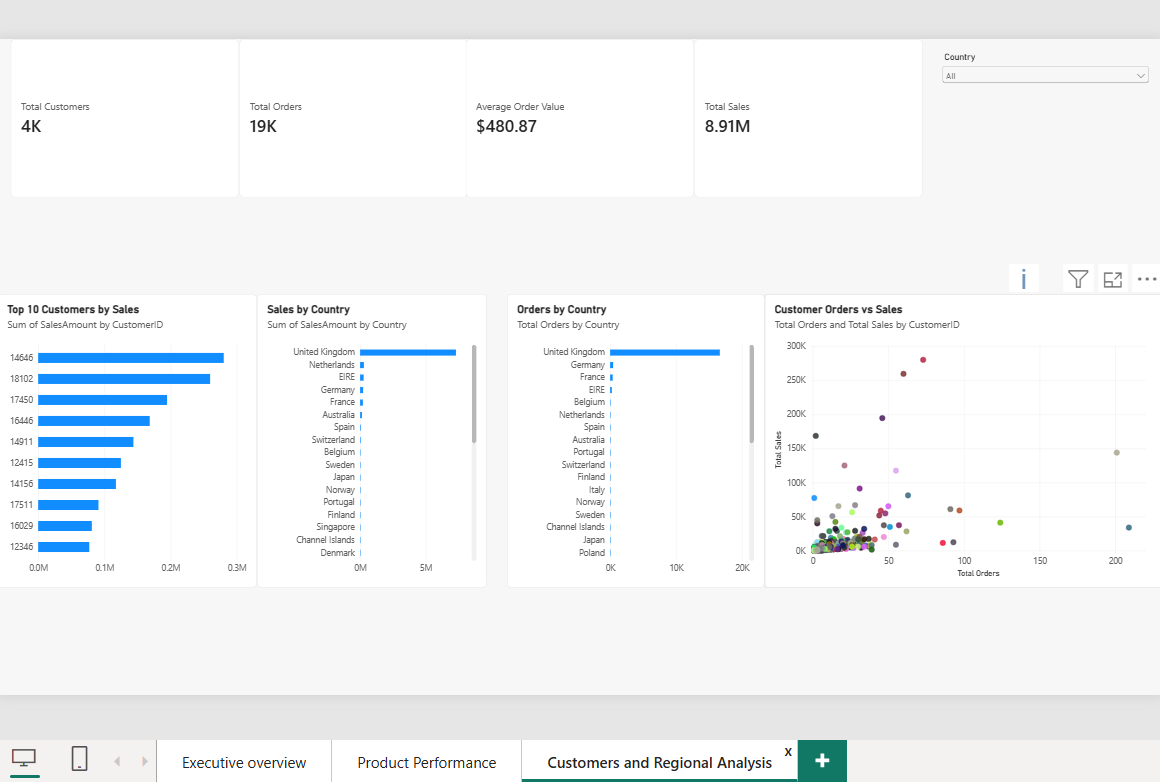

This screenshot's page, from the dashboard's own definition file:
{"tool":"powerbi","page":{"name":"Customers and Regional Analysis","canvas":[1920,1080],"ordinal":2},"visuals":[{"type":"clusteredBarChart","title":"Top 10 Customers by Sales","fields":{"Category":["Online Retail.CustomerID"],"Y":["Sum(Online Retail.SalesAmount)"]},"box":[0,419.9,428.1,483.7],"z":0},{"type":"clusteredBarChart","title":"Sales by Country","fields":{"Category":["Online Retail.Country"],"Y":["Sum(Online Retail.SalesAmount)"]},"box":[428.1,419.9,378.7,483.7],"z":1000},{"type":"clusteredBarChart","title":"Orders by Country","fields":{"Category":["Online Retail.Country"],"Y":["Online Retail.Total Orders"]},"box":[839.8,419.9,424,483.7],"z":2000},{"type":"scatterChart","title":"Customer Orders vs Sales","fields":{"Series":["Online Retail.CustomerID"],"X":["Online Retail.Total Orders"],"Y":["Online Retail.Total Sales"]},"box":[1263.8,419.9,656.6,483.7],"z":3000},{"type":"cardVisual","fields":{"Data":["Online Retail.Total Customers"]},"box":[22.6,0,376.7,261.4],"z":4000},{"type":"cardVisual","fields":{"Data":["Online Retail.Total Orders"]},"box":[399.3,0,376.7,261.4],"z":5000},{"type":"cardVisual","fields":{"Data":["Online Retail.Average Order Value"]},"box":[771.9,0,376.7,261.4],"z":6000},{"type":"cardVisual","fields":{"Data":["Online Retail.Total Sales"]},"box":[1148.5,0,376.7,261.4],"z":7000},{"type":"slicer","fields":{"Values":["Online Retail.Country"]},"box":[1552,20.6,349.9,111.1],"z":7001}]}

Visuals, with their boxes on the page's 1920x1080 design canvas (x1, y1, x2, y2). These are canvas units, not pixel positions in the 1160x782 screenshot, which may show the page scaled, cropped or inside an application window:
"Top 10 Customers by Sales" clusteredBarChart: <bbox>0, 420, 428, 904</bbox>
"Sales by Country" clusteredBarChart: <bbox>428, 420, 807, 904</bbox>
"Orders by Country" clusteredBarChart: <bbox>840, 420, 1264, 904</bbox>
"Customer Orders vs Sales" scatterChart: <bbox>1264, 420, 1920, 904</bbox>
cardVisual - Online Retail.Total Customers: <bbox>23, 0, 399, 261</bbox>
cardVisual - Online Retail.Total Orders: <bbox>399, 0, 776, 261</bbox>
cardVisual - Online Retail.Average Order Value: <bbox>772, 0, 1149, 261</bbox>
cardVisual - Online Retail.Total Sales: <bbox>1148, 0, 1525, 261</bbox>
slicer - Online Retail.Country: <bbox>1552, 21, 1902, 132</bbox>
